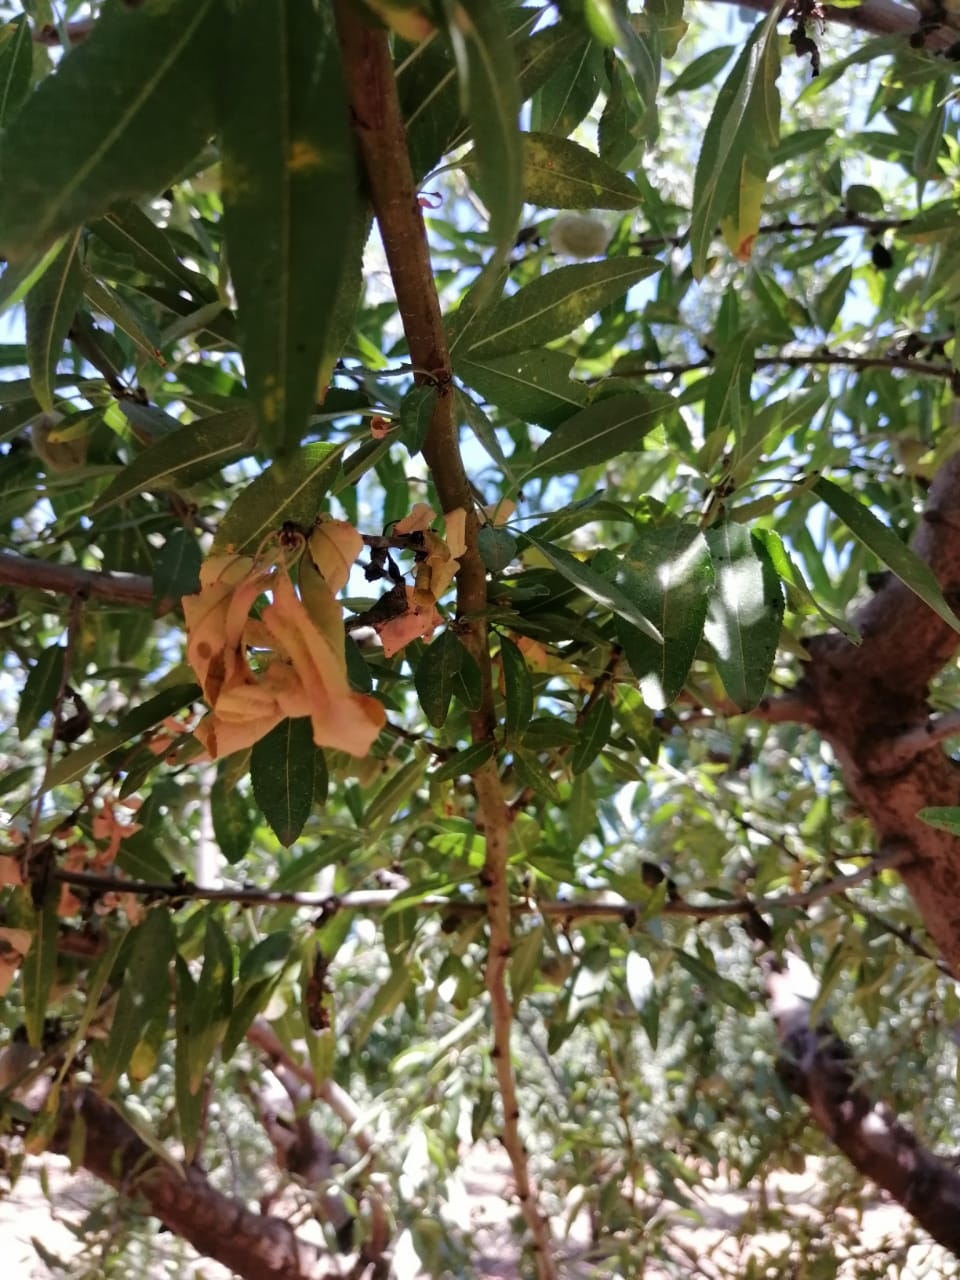chancre fusicocum: (148, 517, 409, 764)
